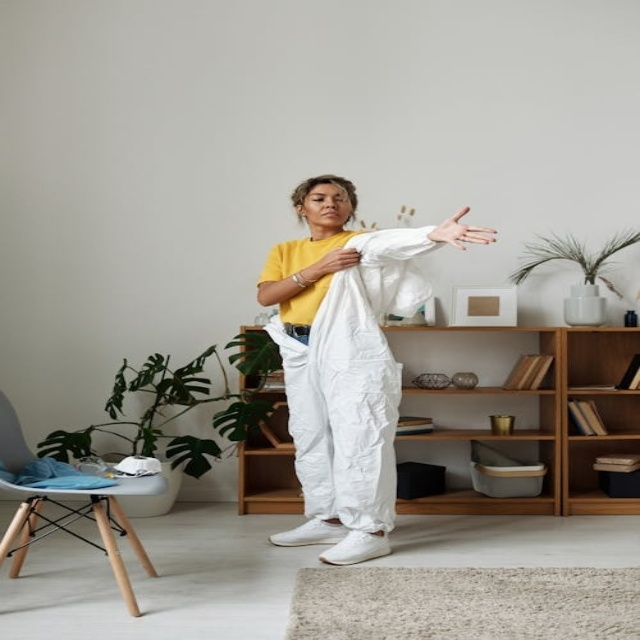Sin_gafas: (306, 190, 346, 201)
Sin_guantes: (433, 203, 500, 250), (317, 244, 364, 271)
Sin_mascara: (315, 208, 342, 222)
